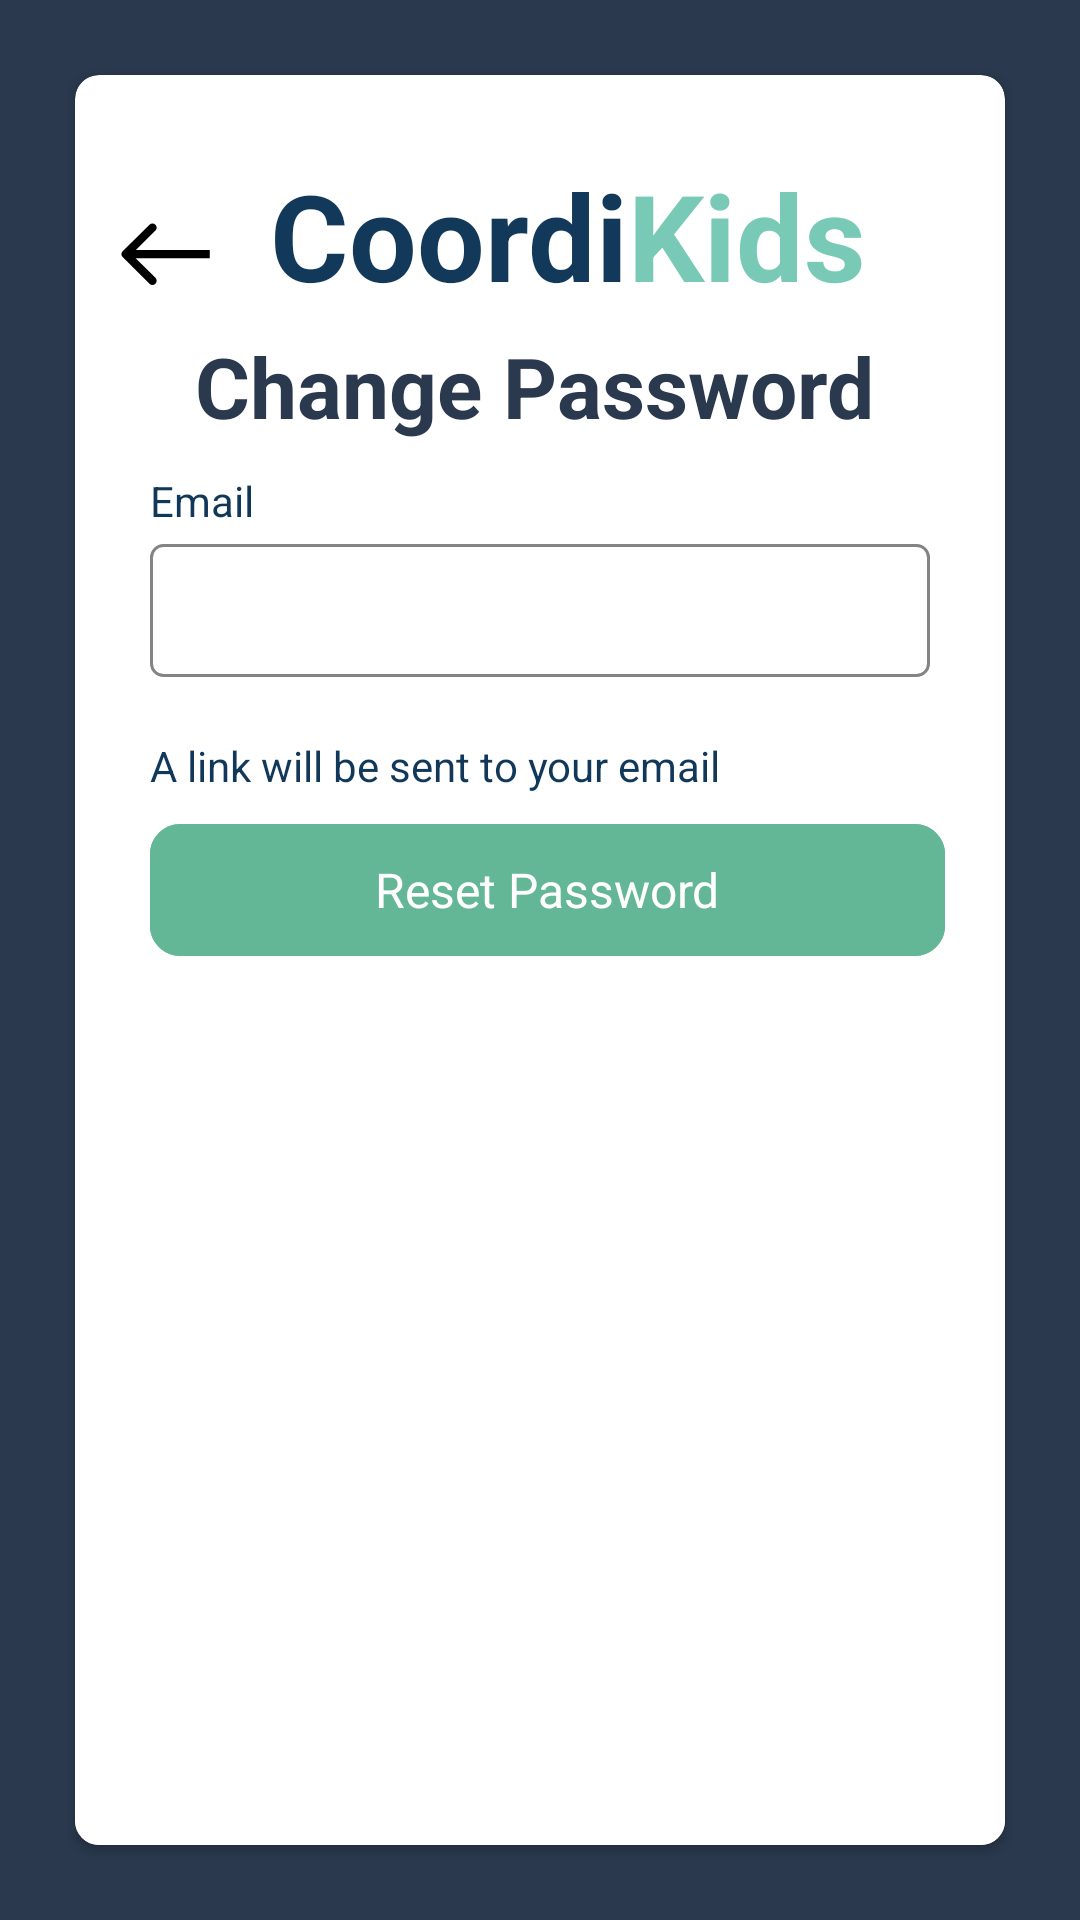

Screen size 1080w x 1920h. Icon name, then its center in pixels as (x=x, y=y):
back: (x=165, y=254)
